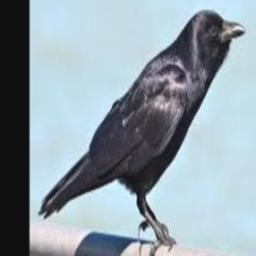Crow: (38, 10, 246, 256)
